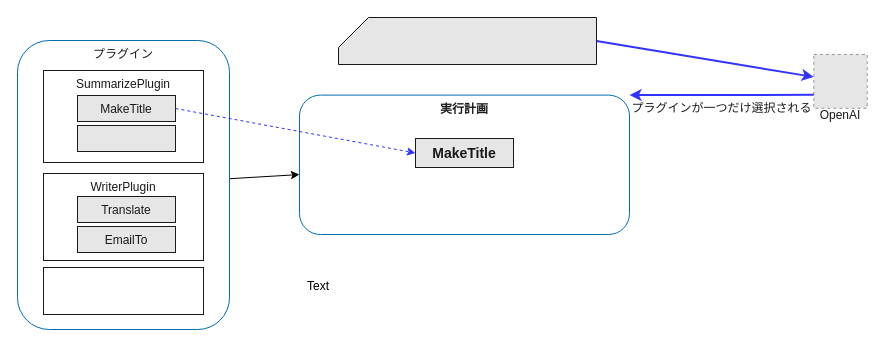
Image size: 888x347. Some labels were removed from this diagram. Grey dashed boxes stand in for pictures. Here are the shapes that lost their labels. From the top down, the centre of each, then its label:
At pixel 467 40: "目標： 以下の文章にタイトルをつけて。".
At pixel 126 138: "Summarise".
At pixel 123 290: "TextPlugin".
